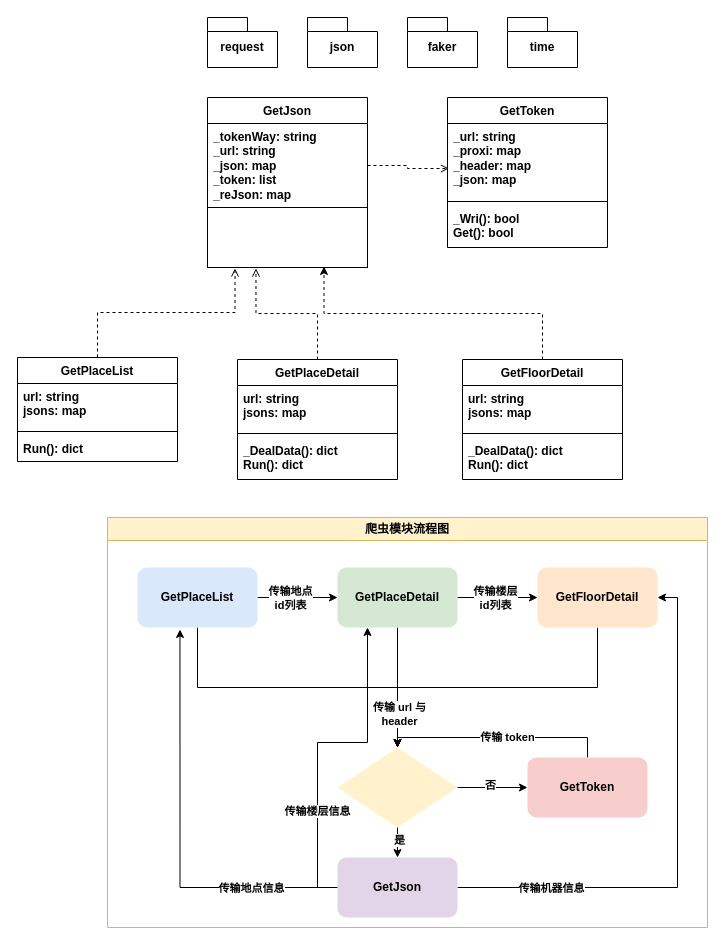
The diagram is 725 pixels wide and 945 high, and some of its shapes have lost their labels. The centre of each missing label's shape, as x and y in pixels:
_GetToken(): None _Get(): bool Run(): dict: the point at 287,237
token是否有效: the point at 397,787
